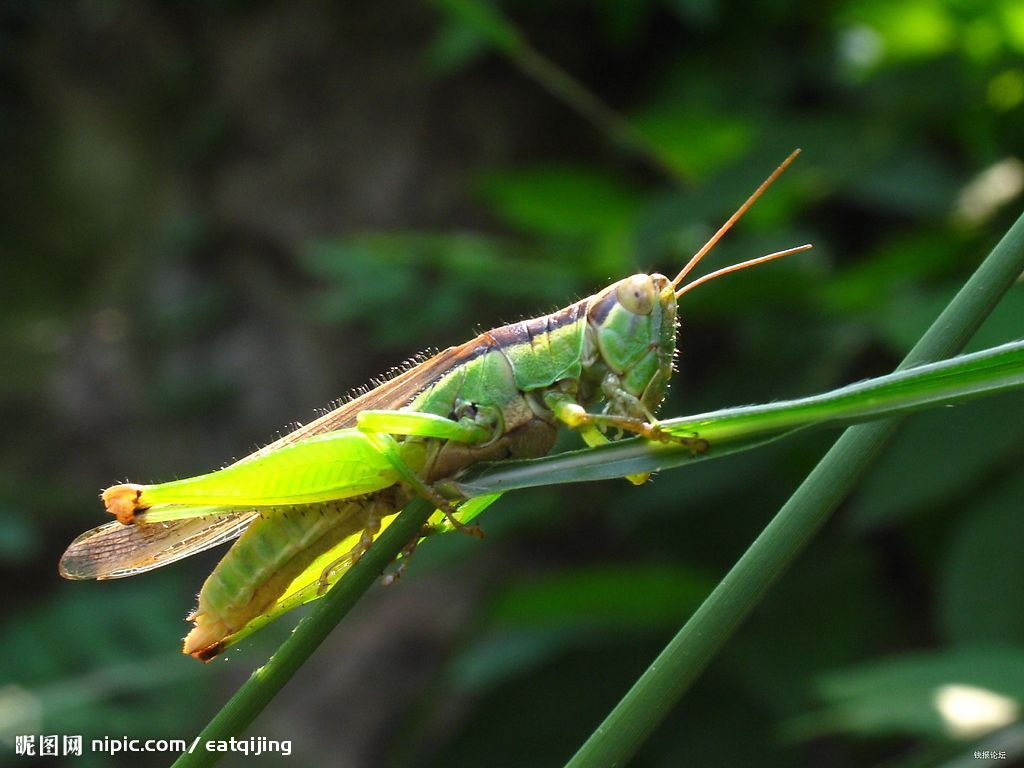huangchong: (61, 265, 682, 636)
